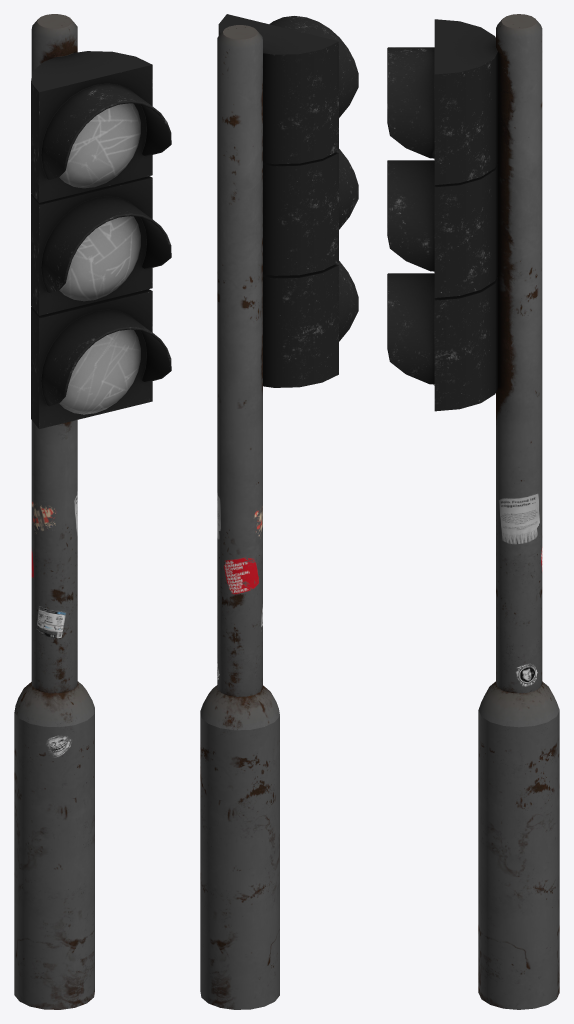
File: semaforo.fbx
3 renders of one model, left to right at view 1: azimuth 30°, elevation 25°; view 2: azimuth 150°, elevation 25°; view 3: azimuth 270°, elevation 25°, orthographic.
Visible parts, largest first — view 1: ampel; view 2: ampel; view 3: ampel.
Part boxes in pixels (<box>): ampel: <box>14,14,171,1009</box>; ampel: <box>200,14,358,1009</box>; ampel: <box>387,14,559,1009</box>.
Bounding box in the file's own units: 24.41 × 200 × 32.15.
